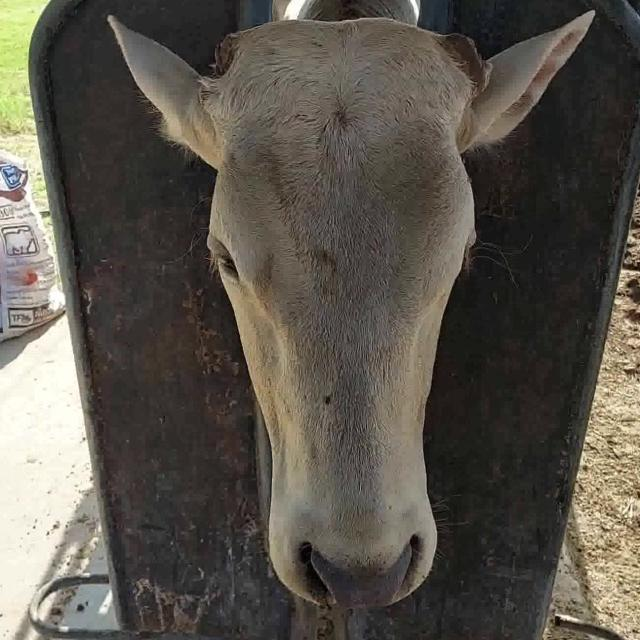cowFace: (210, 22, 476, 608)
